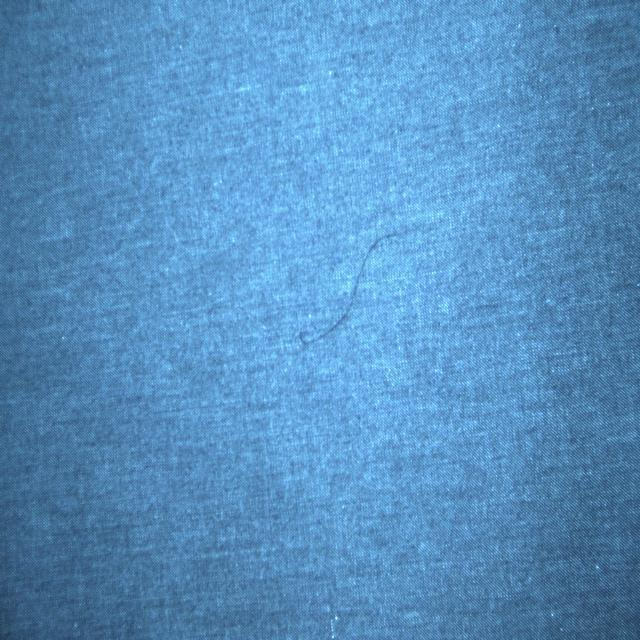defect: (294, 226, 441, 354)
